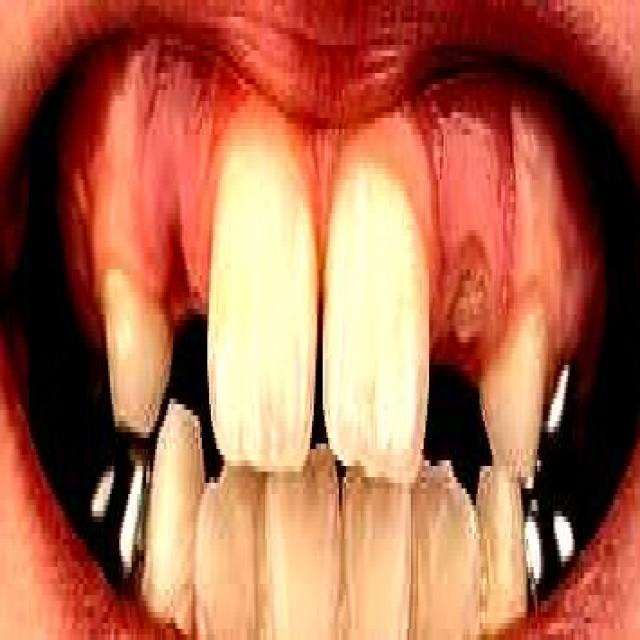caries: (452, 220, 492, 344)
